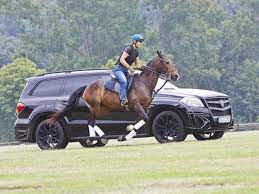car: (24, 74, 234, 144)
horse: (84, 56, 178, 148), (113, 33, 144, 110)
